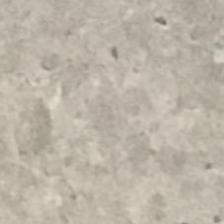Non_Crack: (39, 16, 224, 178)
